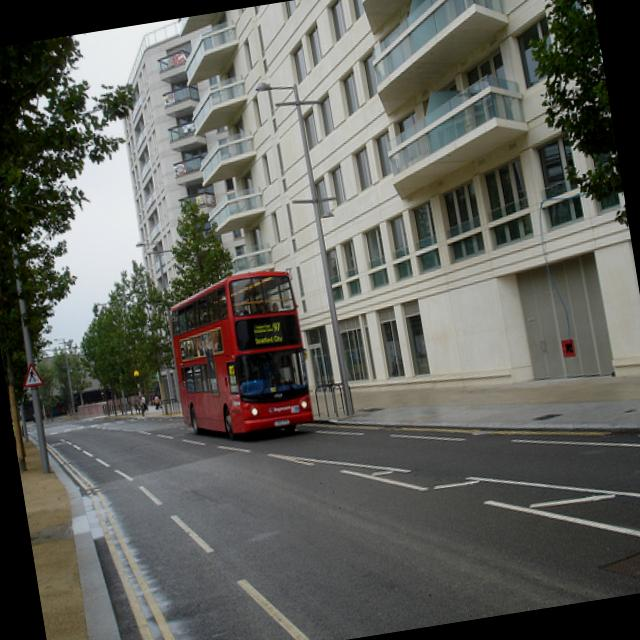Vehicle: (160, 264, 316, 451)
